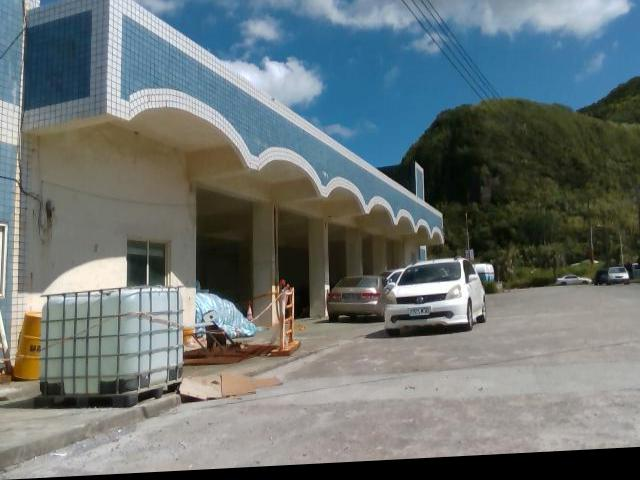pollute: (33, 289, 183, 411), (183, 281, 278, 370), (173, 376, 287, 404), (7, 307, 41, 382)
